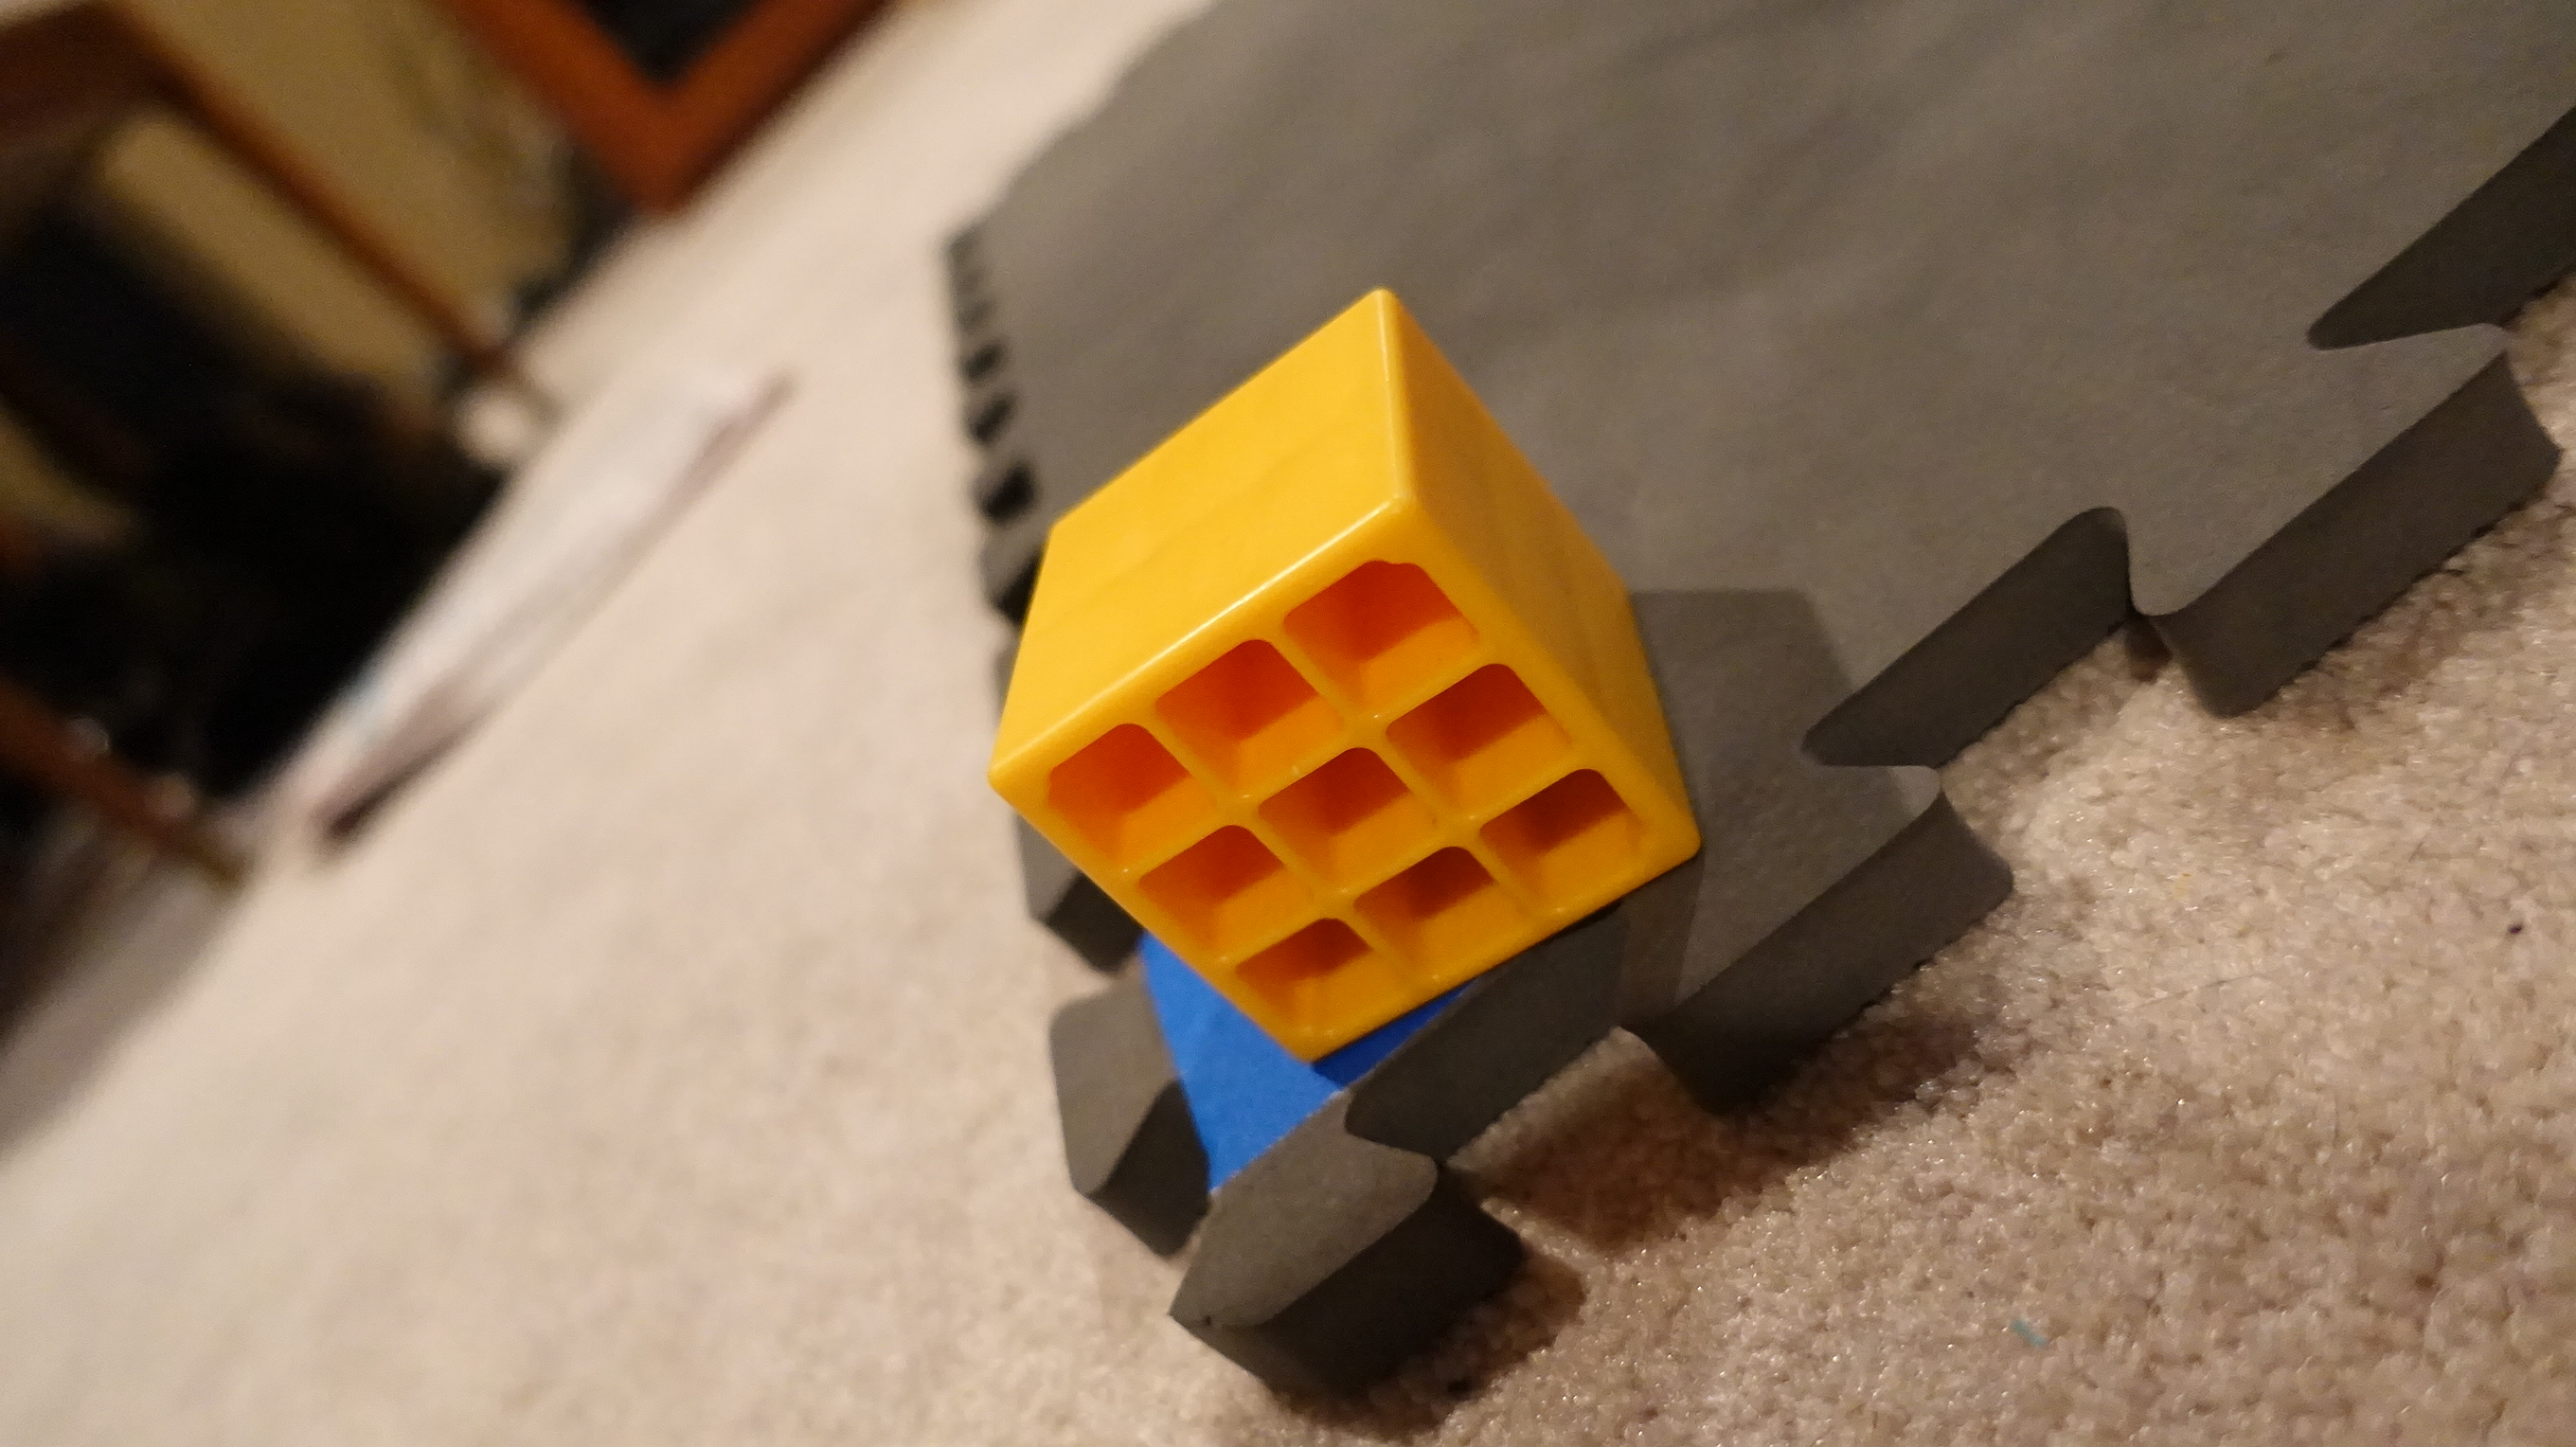gold: (975, 288, 1707, 1067)
